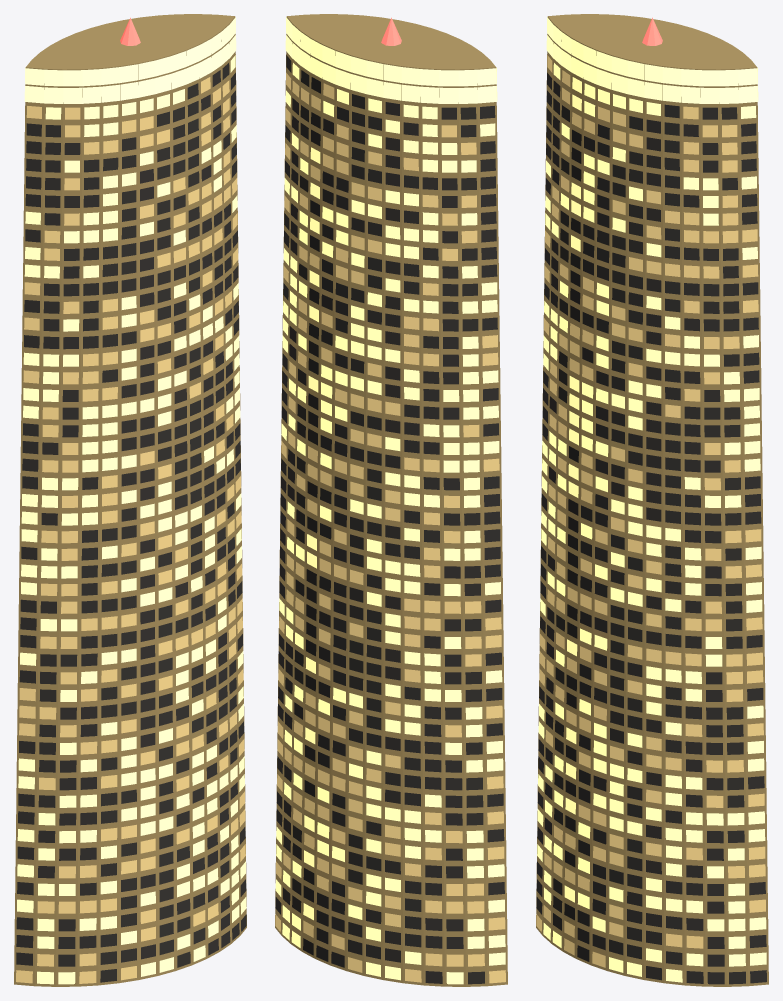
File: landmark_63.glb
The picture shows the model from 3 angles, left to right: view 1: azimuth 30°, elevation 25°; view 2: azimuth 150°, elevation 25°; view 3: azimuth 330°, elevation 25°; orthographic projection.
Visible parts, largest first — view 1: Tower63; view 2: Tower63; view 3: Tower63.
Part boxes in pixels (left/top/right/bottom): Tower63: left=14, top=14, right=246, bottom=986; Tower63: left=275, top=14, right=507, bottom=986; Tower63: left=536, top=14, right=768, bottom=986.
Size of the model in its own units: 40 by 154 by 16.31.
